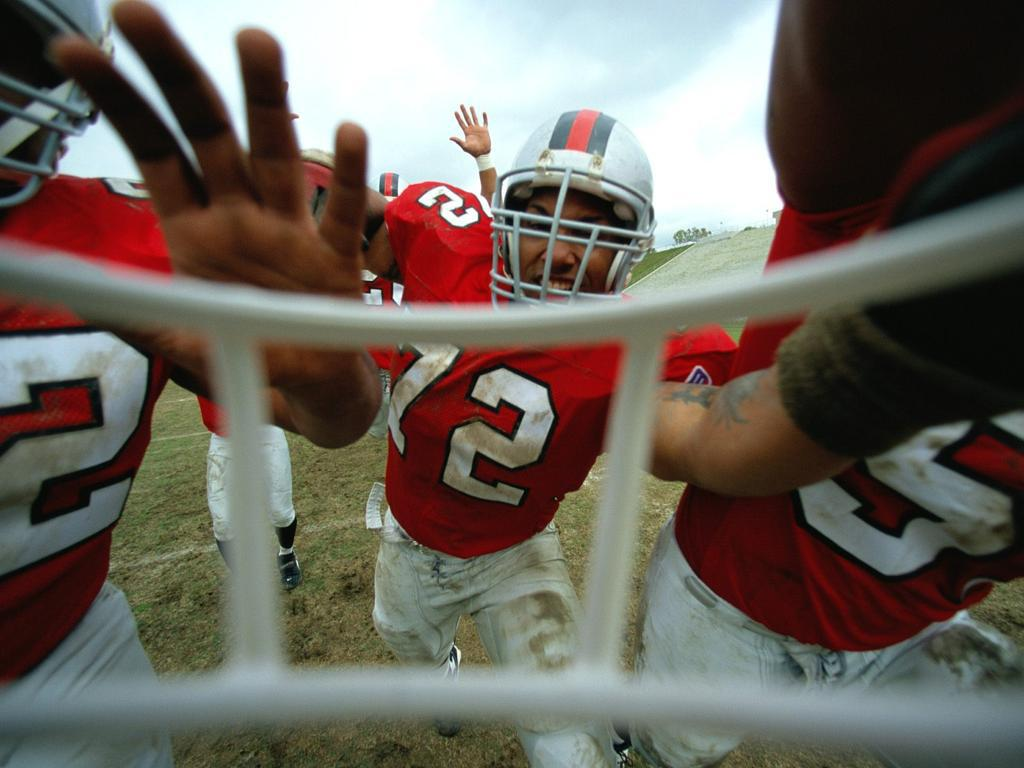face: (511, 159, 613, 341)
